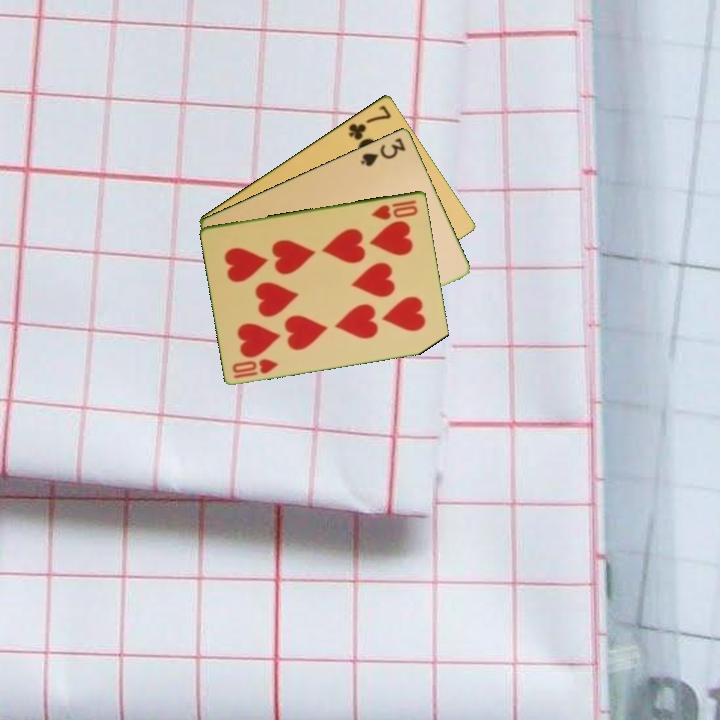10h: (368, 196, 421, 223), (229, 355, 281, 381)
3s: (357, 134, 408, 169)
7c: (345, 101, 394, 143)
